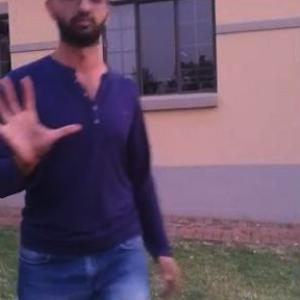follow_hand: (0, 72, 89, 182)
